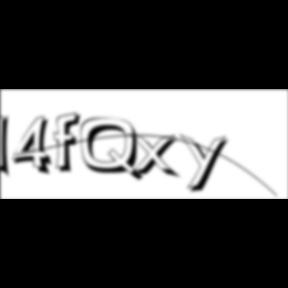4: (12, 115, 58, 179)
Q: (81, 117, 147, 184)
f: (54, 111, 86, 175)
l: (0, 108, 16, 182)
x: (130, 132, 184, 181)
y: (180, 132, 234, 196)
